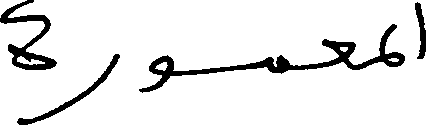ا: (414, 0, 423, 60)
ة: (0, 0, 56, 72)
ر: (66, 52, 120, 109)
ع: (321, 37, 356, 71)
ل: (378, 22, 398, 58), (385, 49, 405, 74)
م: (252, 50, 295, 81)
و: (136, 52, 174, 93)
